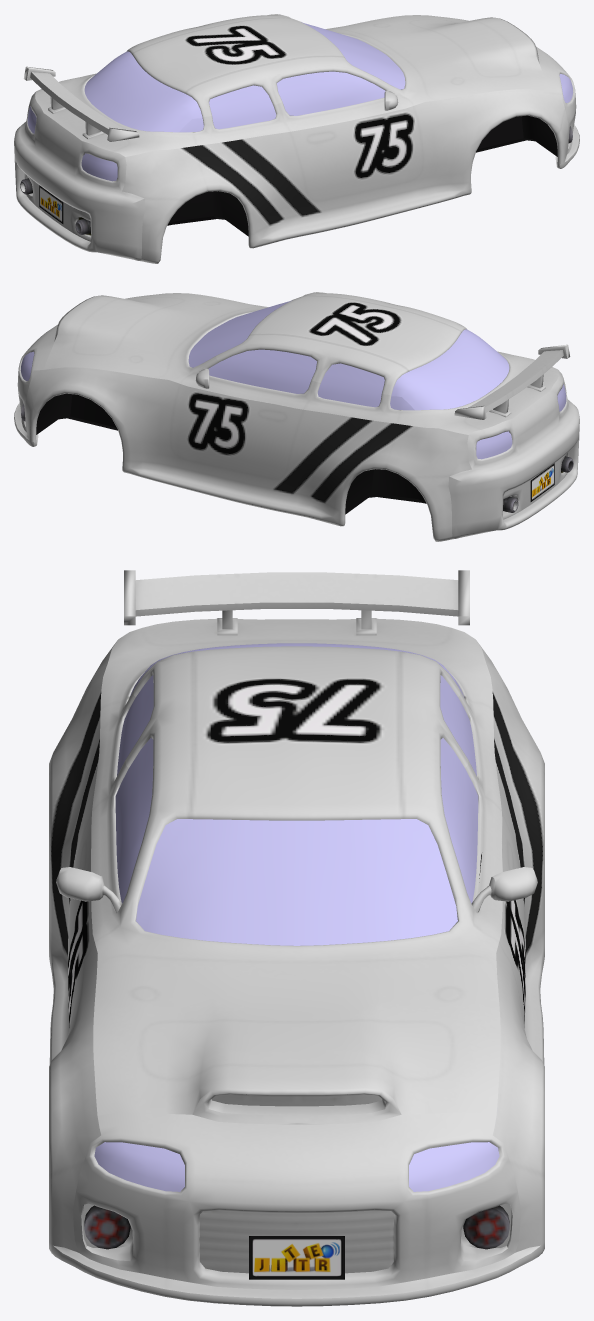
Rendered from car.fbx.
3 views of the same model, one above another, from view 1: azimuth 30°, elevation 25°; view 2: azimuth 150°, elevation 25°; view 3: azimuth 270°, elevation 25° (orthographic). The views are drawn at different scales.
Parts seen in each view (by area): view 1: Mesh02, Mesh01, Mesh03, Mesh04; view 2: Mesh02, Mesh01, Mesh03, Mesh04; view 3: Mesh02, Mesh01, Mesh04.
Boxes of the visible parts, x1=… form: Mesh02: x1=14, y1=14, x2=579, y2=263; Mesh01: x1=27, y1=22, x2=573, y2=181; Mesh03: x1=167, y1=115, x2=557, y2=236; Mesh04: x1=20, y1=126, x2=572, y2=234; Mesh02: x1=14, y1=292, x2=579, y2=541; Mesh01: x1=20, y1=300, x2=566, y2=459; Mesh03: x1=36, y1=393, x2=426, y2=514; Mesh04: x1=21, y1=404, x2=573, y2=512; Mesh02: x1=49, y1=570, x2=544, y2=1306; Mesh01: x1=94, y1=643, x2=499, y2=1191; Mesh04: x1=84, y1=1205, x2=509, y2=1249.
Bounding box in the file's own units: 5.96 × 1.67 × 2.49.
2 materials, 1 textured.
